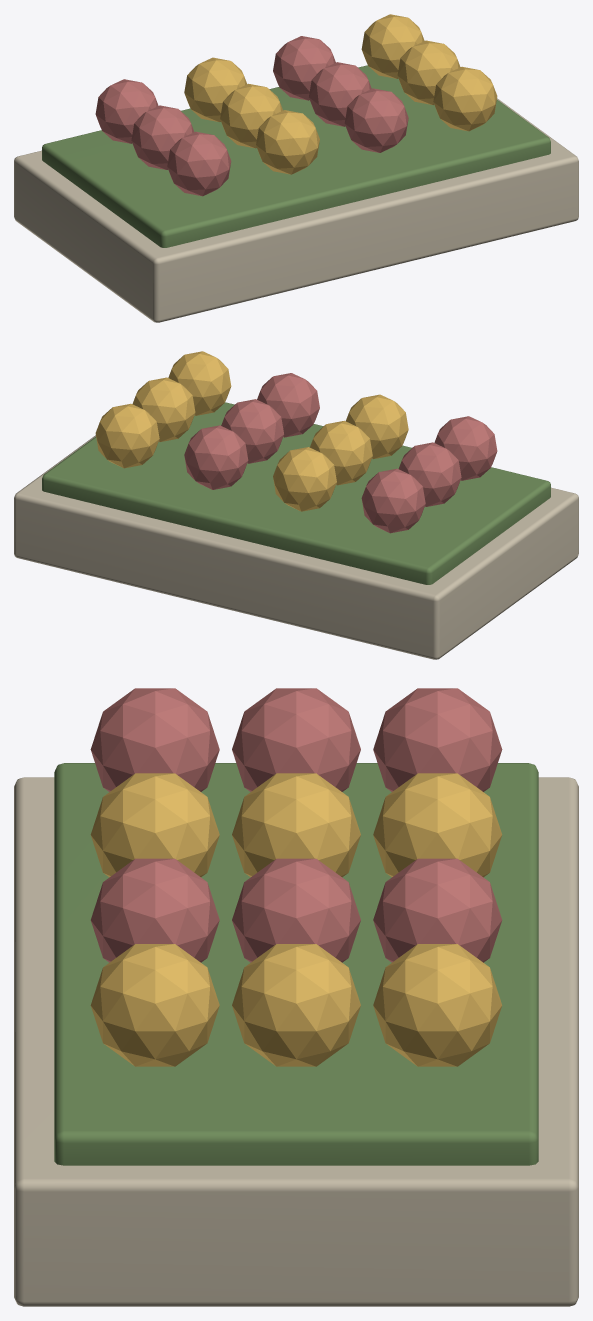
Rendered from flowers.glb.
3 views of the same model, one above another, from view 1: azimuth 30°, elevation 25°; view 2: azimuth 150°, elevation 25°; view 3: azimuth 270°, elevation 25° (orthographic). The views are drawn at different scales.
Parts seen in each view (by area): view 1: flowers_Flowerbed, flowers_Plant_Soil, flowers_Flower_Bloom.009, flowers_Flower_Bloom.010, flowers_Flower_Bloom.008, flowers_Flower_Bloom.011, flowers_Flower_Bloom.001, flowers_Flower_Bloom.003, flowers_Flower_Bloom, flowers_Flower_Bloom.002, flowers_Flower_Bloom.004, flowers_Flower_Bloom.005 (+2 smaller); view 2: flowers_Flowerbed, flowers_Plant_Soil, flowers_Flower_Bloom.001, flowers_Flower_Bloom.002, flowers_Flower_Bloom, flowers_Flower_Bloom.003, flowers_Flower_Bloom.009, flowers_Flower_Bloom.011, flowers_Flower_Bloom.008, flowers_Flower_Bloom.010, flowers_Flower_Bloom.004, flowers_Flower_Bloom.005 (+2 smaller); view 3: flowers_Flowerbed, flowers_Plant_Soil, flowers_Flower_Bloom.003, flowers_Flower_Bloom.007, flowers_Flower_Bloom.011, flowers_Flower_Bloom.004, flowers_Flower_Bloom, flowers_Flower_Bloom.002, flowers_Flower_Bloom.008, flowers_Flower_Bloom.010, flowers_Flower_Bloom.001, flowers_Flower_Bloom.006 (+2 smaller).
Boxes of the visible parts, x1,y1,x2,y2 form: flowers_Flowerbed: [14, 98, 578, 322]; flowers_Plant_Soil: [42, 65, 550, 247]; flowers_Flower_Bloom.009: [256, 110, 319, 174]; flowers_Flower_Bloom.010: [344, 88, 408, 152]; flowers_Flower_Bloom.008: [167, 131, 231, 196]; flowers_Flower_Bloom.011: [433, 66, 497, 131]; flowers_Flower_Bloom.001: [184, 57, 246, 122]; flowers_Flower_Bloom.003: [361, 14, 424, 78]; flowers_Flower_Bloom: [95, 79, 158, 143]; flowers_Flower_Bloom.002: [273, 36, 335, 100]; flowers_Flower_Bloom.004: [131, 105, 194, 169]; flowers_Flower_Bloom.005: [220, 83, 282, 148]; flowers_Flowerbed: [14, 435, 578, 659]; flowers_Plant_Soil: [42, 402, 550, 584]; flowers_Flower_Bloom.001: [273, 447, 336, 511]; flowers_Flower_Bloom.002: [184, 425, 248, 489]; flowers_Flower_Bloom: [361, 468, 425, 533]; flowers_Flower_Bloom.003: [95, 403, 159, 468]; flowers_Flower_Bloom.009: [346, 394, 408, 459]; flowers_Flower_Bloom.011: [168, 351, 231, 415]; flowers_Flower_Bloom.008: [434, 416, 497, 480]; flowers_Flower_Bloom.010: [257, 373, 319, 437]; flowers_Flower_Bloom.004: [398, 442, 461, 506]; flowers_Flower_Bloom.005: [310, 420, 372, 485]; flowers_Flowerbed: [14, 777, 578, 1306]; flowers_Plant_Soil: [54, 763, 538, 1165]; flowers_Flower_Bloom.003: [373, 944, 502, 1066]; flowers_Flower_Bloom.007: [232, 944, 360, 1066]; flowers_Flower_Bloom.011: [90, 944, 219, 1066]; flowers_Flower_Bloom.004: [232, 688, 360, 791]; flowers_Flower_Bloom: [373, 688, 502, 791]; flowers_Flower_Bloom.002: [373, 858, 502, 962]; flowers_Flower_Bloom.008: [90, 688, 219, 791]; flowers_Flower_Bloom.010: [90, 858, 219, 962]; flowers_Flower_Bloom.001: [373, 773, 502, 877]; flowers_Flower_Bloom.006: [232, 858, 360, 962].
Bounding box in the file's own units: 2.4 × 0.785 × 1.4.
